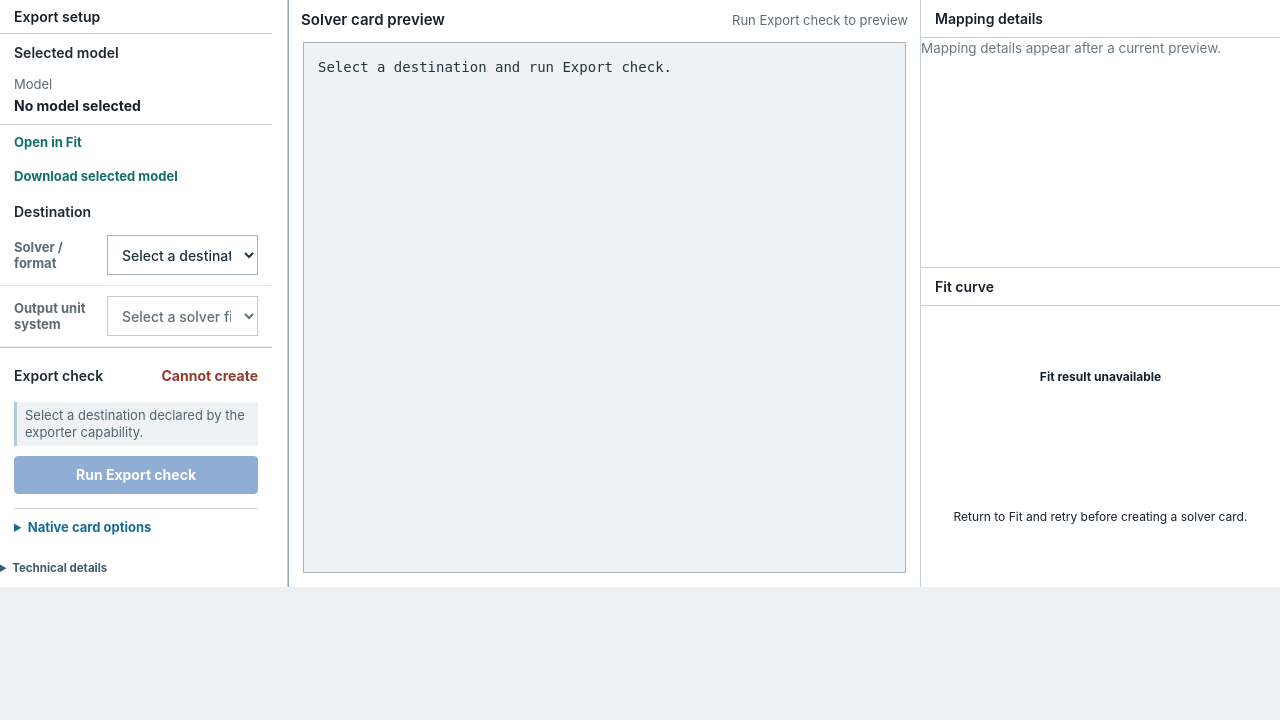
ModelingTargetPreview › loads solver, version, and unit choices from the metal elastoplastic capability
Select "openradioss 2025 · kg-m-s" in the dropdown named "Solver target" at [182, 255], box x1=107 y1=235 x2=258 y2=275
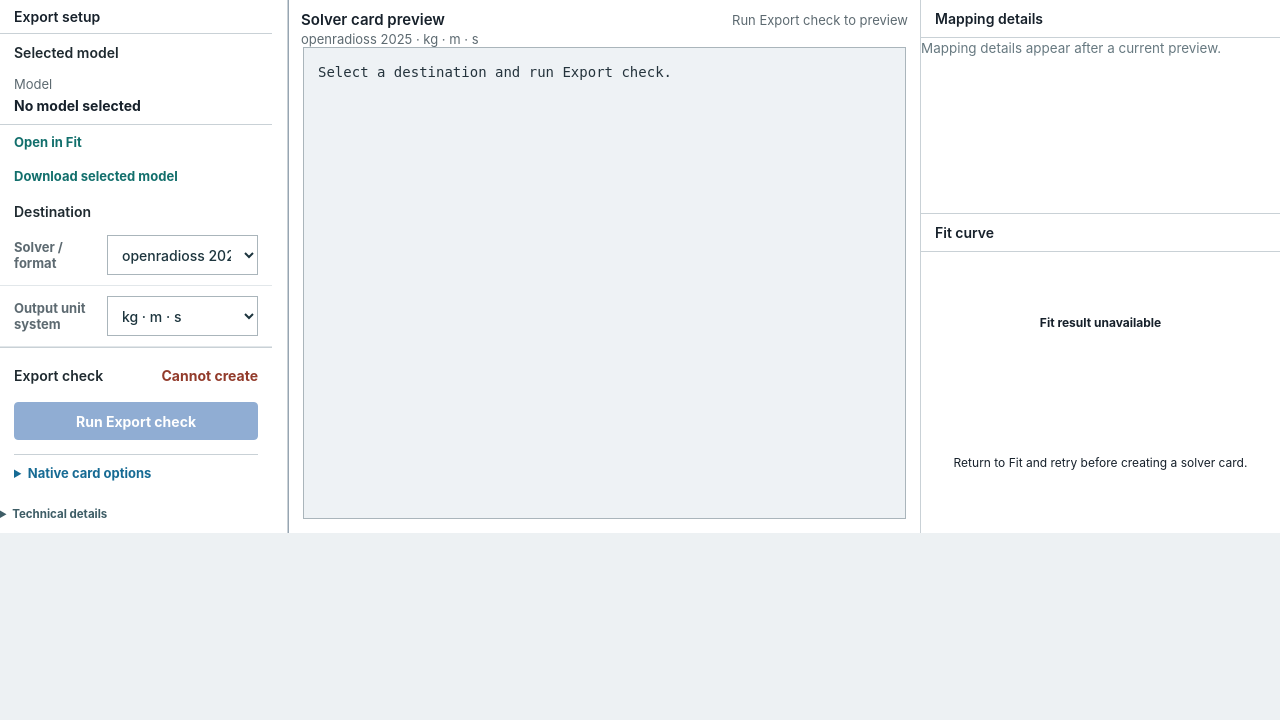
Expected: the dropdown labelled "Output unit system" shows "kg · m · s", x1=107 y1=296 x2=258 y2=336
